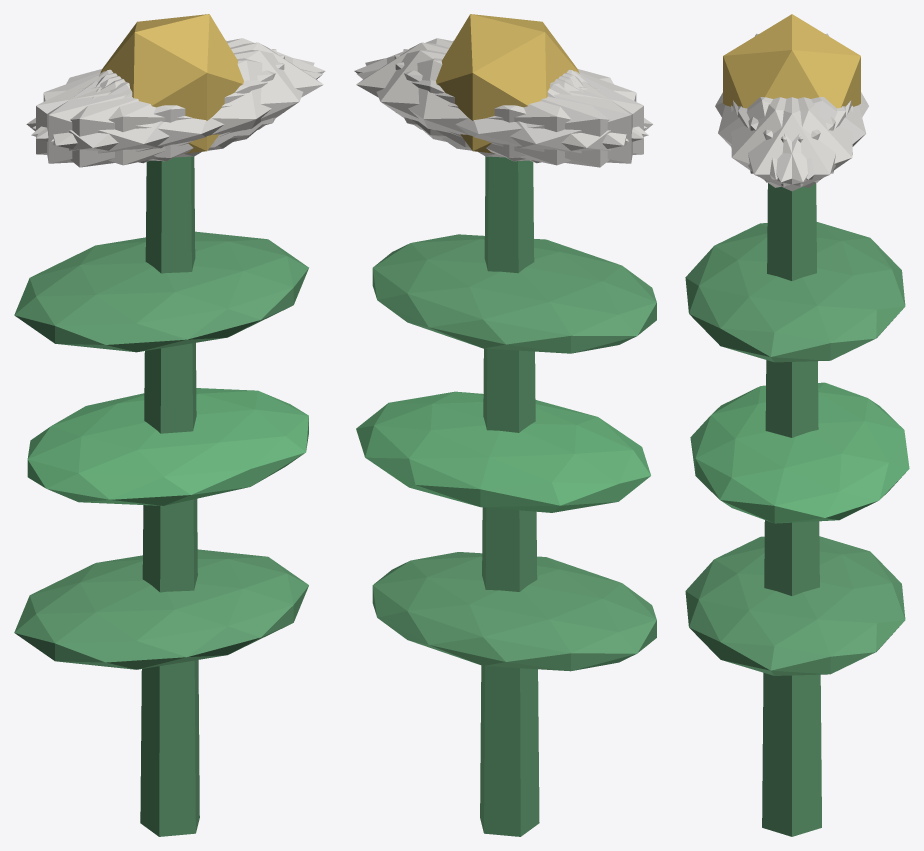
The model's file is agrimonia-asiatica.glb.
The picture shows the model from 3 angles, left to right: view 1: azimuth 30°, elevation 25°; view 2: azimuth 150°, elevation 25°; view 3: azimuth 270°, elevation 25°; orthographic projection.
Parts seen in each view (by area): view 1: stem, leaf2, leaf0, leaf1, center, petal1, petal6, petal2, petal5, petal7, petal0, petal4 (+2 smaller); view 2: leaf1, leaf2, leaf0, stem, center, petal8, petal3, petal7, petal4, petal2, petal0, petal5 (+2 smaller); view 3: stem, leaf2, leaf1, leaf0, center, petal0, petal5, petal4, petal8, petal1.
Part boxes in pixels (left/top/right/bottom): stem: left=140, top=156, right=199, bottom=836; leaf2: left=14, top=231, right=308, bottom=352; leaf0: left=14, top=549, right=308, bottom=669; leaf1: left=27, top=388, right=308, bottom=505; center: left=100, top=14, right=243, bottom=153; petal1: left=31, top=58, right=322, bottom=165; petal6: left=26, top=71, right=237, bottom=167; petal2: left=47, top=49, right=276, bottom=163; petal5: left=51, top=50, right=314, bottom=157; petal7: left=36, top=55, right=284, bottom=161; petal0: left=100, top=42, right=323, bottom=147; petal4: left=32, top=38, right=325, bottom=138; leaf1: left=356, top=391, right=650, bottom=512; leaf2: left=372, top=234, right=656, bottom=353; leaf0: left=372, top=552, right=656, bottom=671; stem: left=480, top=156, right=539, bottom=836; center: left=436, top=14, right=579, bottom=153; petal8: left=357, top=58, right=648, bottom=165; petal3: left=442, top=71, right=652, bottom=167; petal7: left=403, top=49, right=632, bottom=163; petal4: left=365, top=50, right=628, bottom=157; petal2: left=394, top=55, right=643, bottom=161; petal0: left=356, top=42, right=579, bottom=147; petal5: left=354, top=38, right=647, bottom=138; stem: left=762, top=183, right=821, bottom=836; leaf2: left=685, top=222, right=905, bottom=362; leaf1: left=690, top=382, right=909, bottom=523; leaf0: left=685, top=536, right=905, bottom=675; center: left=723, top=14, right=860, bottom=108; petal0: left=733, top=97, right=851, bottom=191; petal5: left=731, top=97, right=845, bottom=187; petal4: left=738, top=97, right=852, bottom=187; petal8: left=748, top=97, right=866, bottom=179; petal1: left=718, top=97, right=835, bottom=179.
Size of the model in its own units: 0.1477 by 0.3874 by 0.0994.
